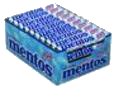grozi_43: (5, 3, 111, 85)
